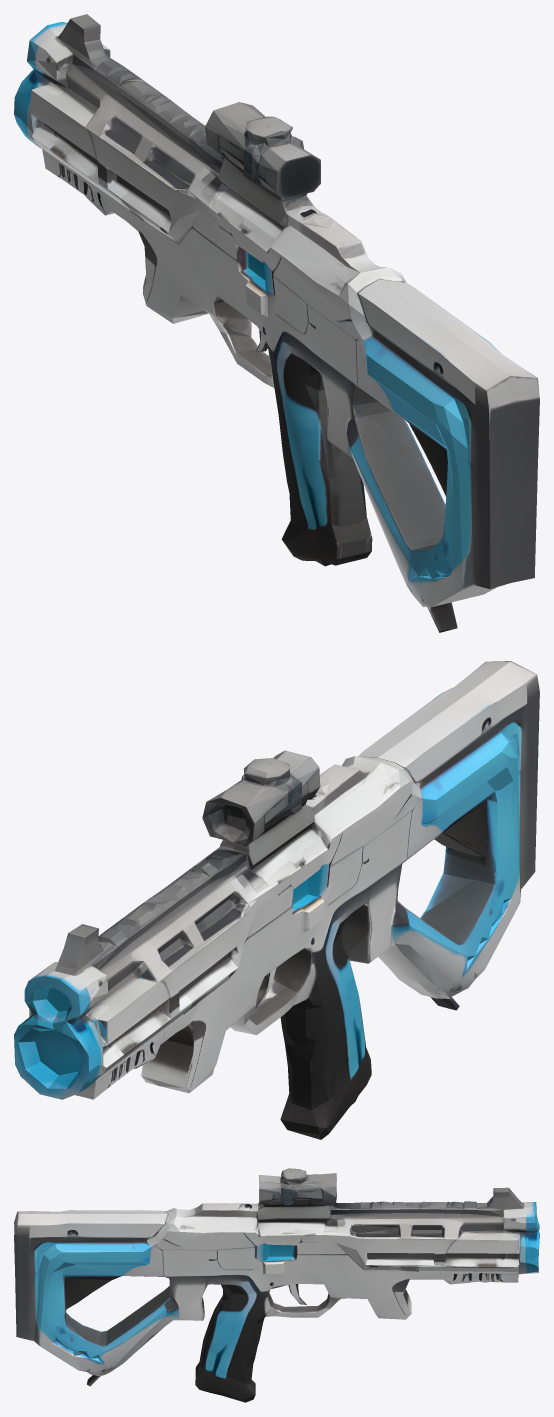
Rendered from assault_rifle.gltf.
The picture shows the model from 3 angles, top to bottom: view 1: azimuth 30°, elevation 25°; view 2: azimuth 150°, elevation 25°; view 3: azimuth 270°, elevation 25°; orthographic projection. The views are drawn at different scales.
Parts seen in each view (by area): view 1: model; view 2: model; view 3: model.
Boxes of the visible parts, x1,y1,x2,y2 form: model: (14,14,539,632); model: (14,661,539,1139); model: (14,1168,539,1402).
Size of the model in its own units: 0.0937 by 0.4514 by 0.9497.
1 material, 1 textured.
